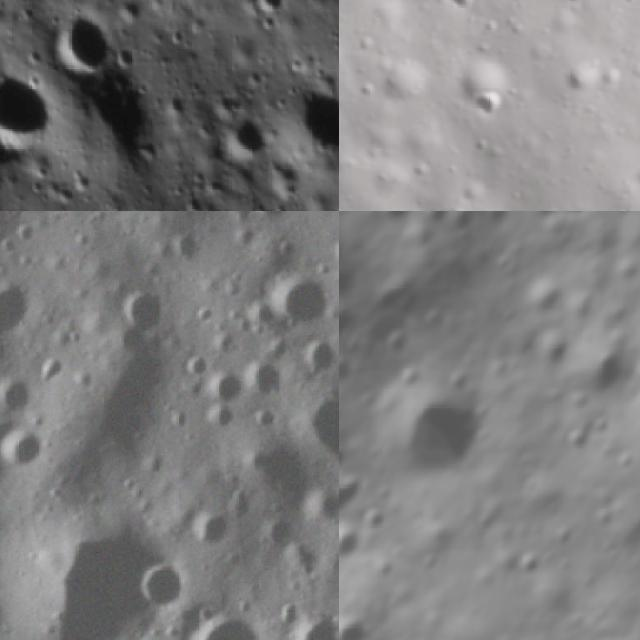crater: (23, 504, 197, 640), (362, 359, 514, 512), (40, 0, 120, 92), (285, 384, 339, 515), (558, 331, 640, 417), (449, 46, 526, 134), (0, 61, 61, 166), (263, 266, 339, 334), (287, 69, 339, 166), (104, 278, 174, 342), (212, 110, 276, 176), (172, 607, 285, 640), (136, 554, 192, 620), (516, 268, 576, 329), (339, 454, 376, 547), (0, 419, 52, 472), (378, 317, 427, 369), (258, 159, 312, 206), (0, 277, 35, 342), (236, 292, 283, 340), (298, 481, 339, 532), (189, 508, 233, 552), (275, 542, 327, 579), (508, 544, 552, 587), (0, 377, 42, 422), (370, 211, 431, 241), (339, 601, 384, 640), (200, 396, 243, 436), (202, 366, 245, 406), (167, 226, 209, 266), (339, 344, 369, 398), (285, 611, 339, 640), (477, 211, 523, 239), (176, 351, 217, 382), (241, 0, 295, 22), (416, 211, 462, 236), (248, 403, 282, 430), (550, 0, 598, 19), (245, 211, 293, 229), (325, 229, 339, 274)
